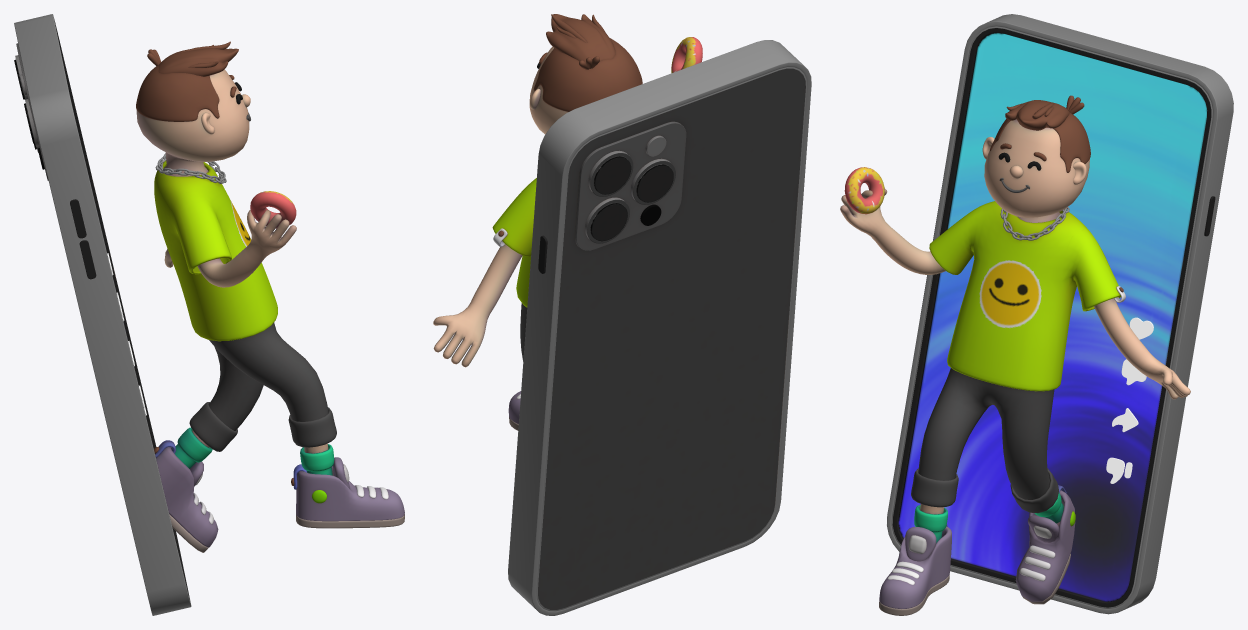
File: content.glb
3 renders of one model, left to right at view 1: azimuth 30°, elevation 25°; view 2: azimuth 150°, elevation 25°; view 3: azimuth 270°, elevation 25°, orthographic. The views are drawn at different scales.
Parts seen in each view (by area): view 1: Boy_base.001; view 2: Boy_base.001; view 3: Boy_base.001.
Boxes of the visible parts, <box> form: Boy_base.001: <box>14,14,404,615</box>; Boy_base.001: <box>433,14,811,615</box>; Boy_base.001: <box>840,14,1233,615</box>.
Bounding box in the file's own units: 0.6172 × 0.9603 × 0.6559.
Materials: 3 (2 with a texture image).
